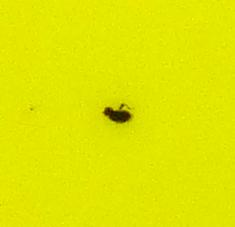Brachycera: (100, 100, 135, 127)
